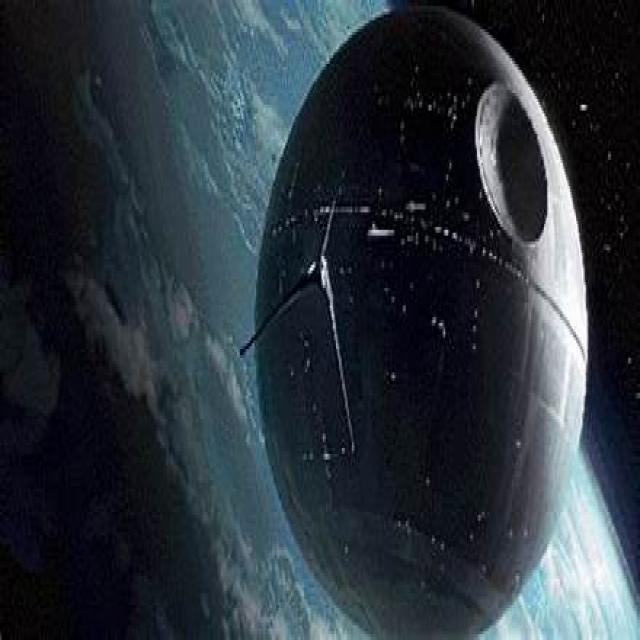deathStar: (257, 6, 593, 634)
